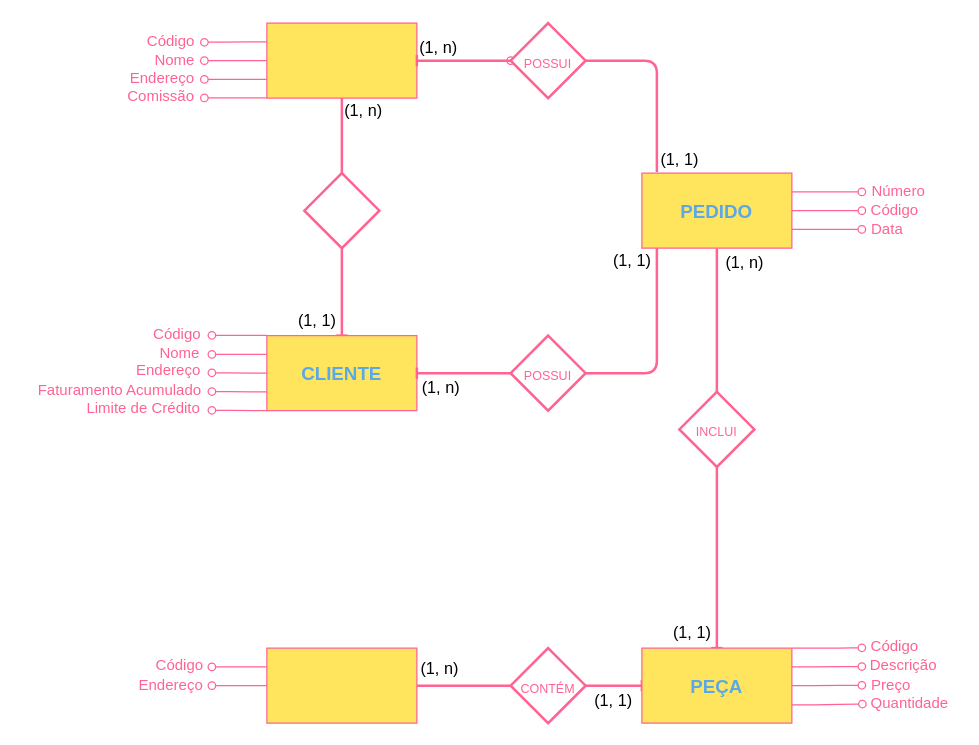
Some shapes in this 979 by 745 pixel diagram are drawn without their labels. The shapes that lost their labels are listed below. From the top down, each one's box as (x1, y1, x2, y2) in pixels, then its label:
(266, 22, 417, 98): VENDEDOR
(302, 171, 380, 249): ATENDE
(266, 647, 417, 723): ARMAZÉM
